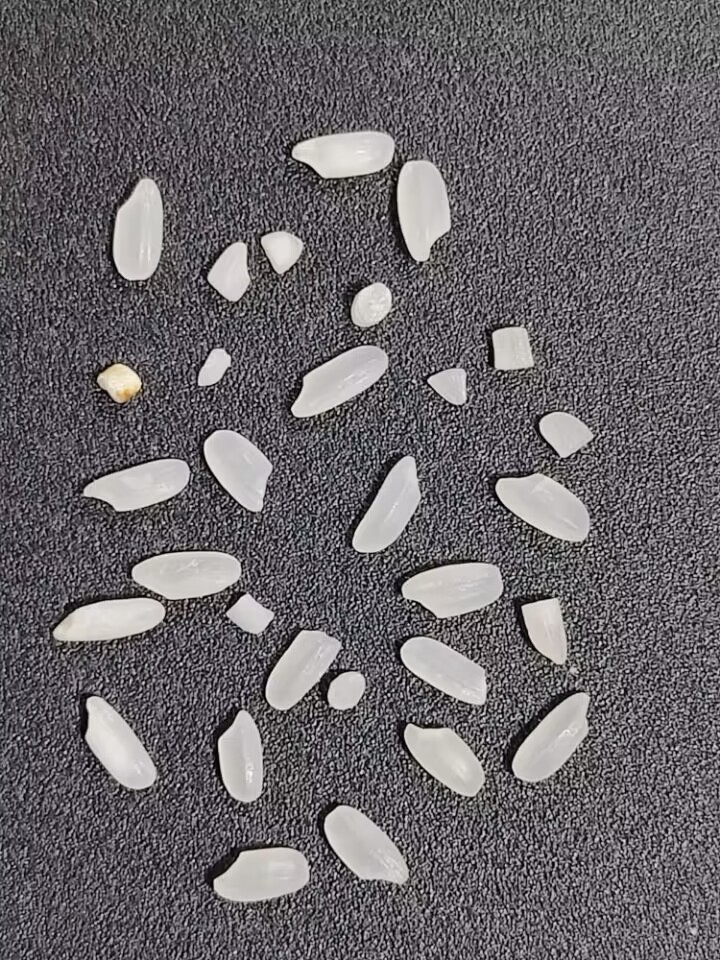broken: (261, 627, 344, 712), (519, 595, 569, 665), (533, 407, 597, 461), (206, 239, 259, 302), (483, 324, 537, 376), (344, 282, 401, 329), (95, 363, 148, 408), (422, 366, 478, 407), (224, 594, 277, 637), (259, 228, 305, 276), (326, 667, 368, 716), (193, 343, 231, 392)
rice: (507, 689, 594, 785), (323, 801, 413, 891), (289, 344, 391, 422), (82, 692, 160, 793), (392, 558, 508, 624), (349, 453, 422, 557), (493, 469, 592, 545), (128, 548, 251, 605), (400, 723, 489, 800), (79, 457, 193, 516), (399, 634, 488, 708), (202, 427, 274, 517), (395, 157, 455, 264), (110, 172, 165, 284), (52, 594, 166, 647), (210, 846, 312, 903), (288, 130, 396, 179), (217, 709, 266, 806)
